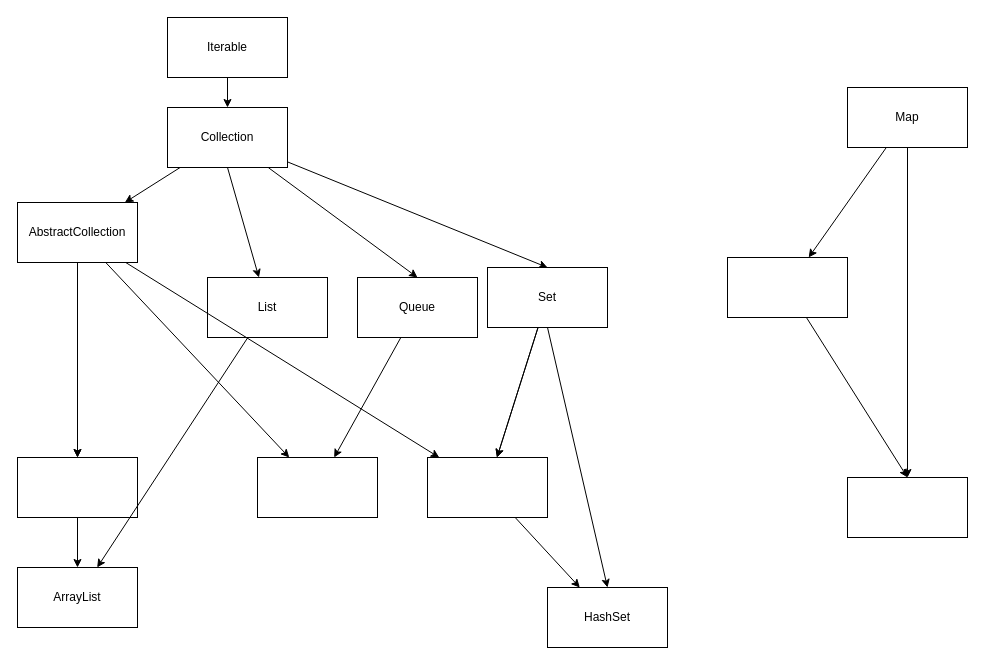
The diagram is 985 pixels wide and 665 high, and some of its shapes have lost their labels. The centre of each missing label's shape, as x and y in pixels:
AbstractList: point 77,487
AbstractMap: point 787,287
AbstractQueue: point 317,487
AbstractSet: point 487,487
HashMap: point 907,507
